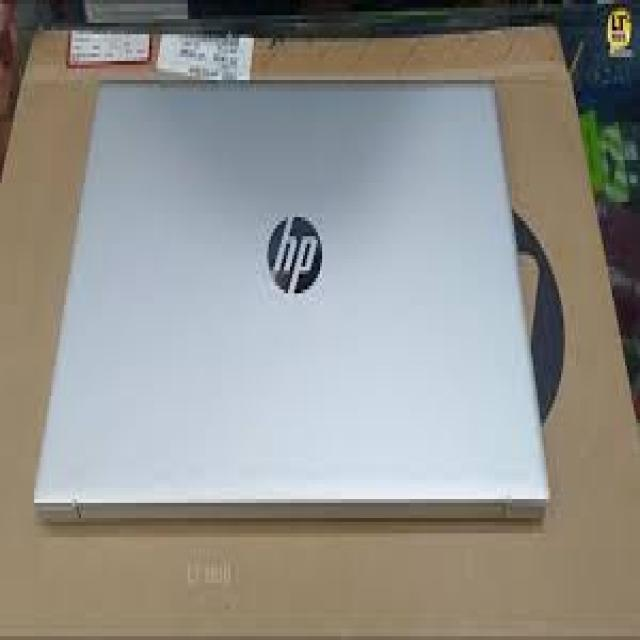laptop: (32, 76, 550, 522)
